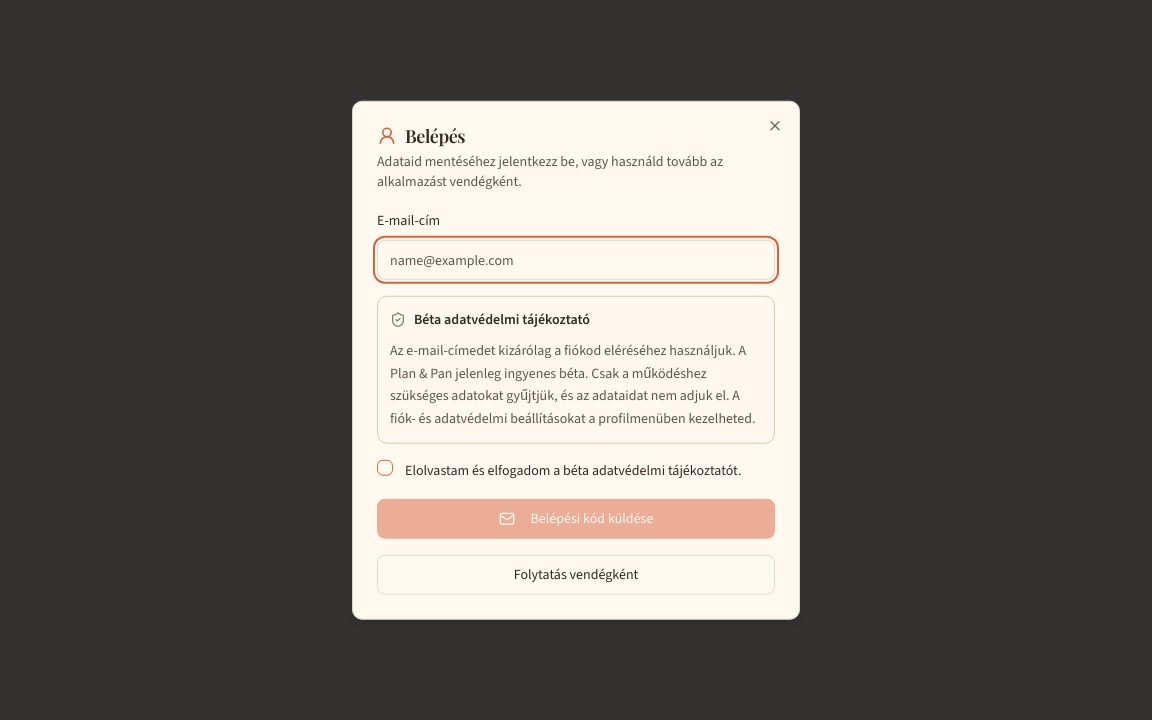
account dialog › shows a safe Hungarian rate-limit message
The image size is (1152, 720).
Type "tester@example.com" into the field labelled "E-mail-cím". click: (576, 260)
box: [377,240,775,280]
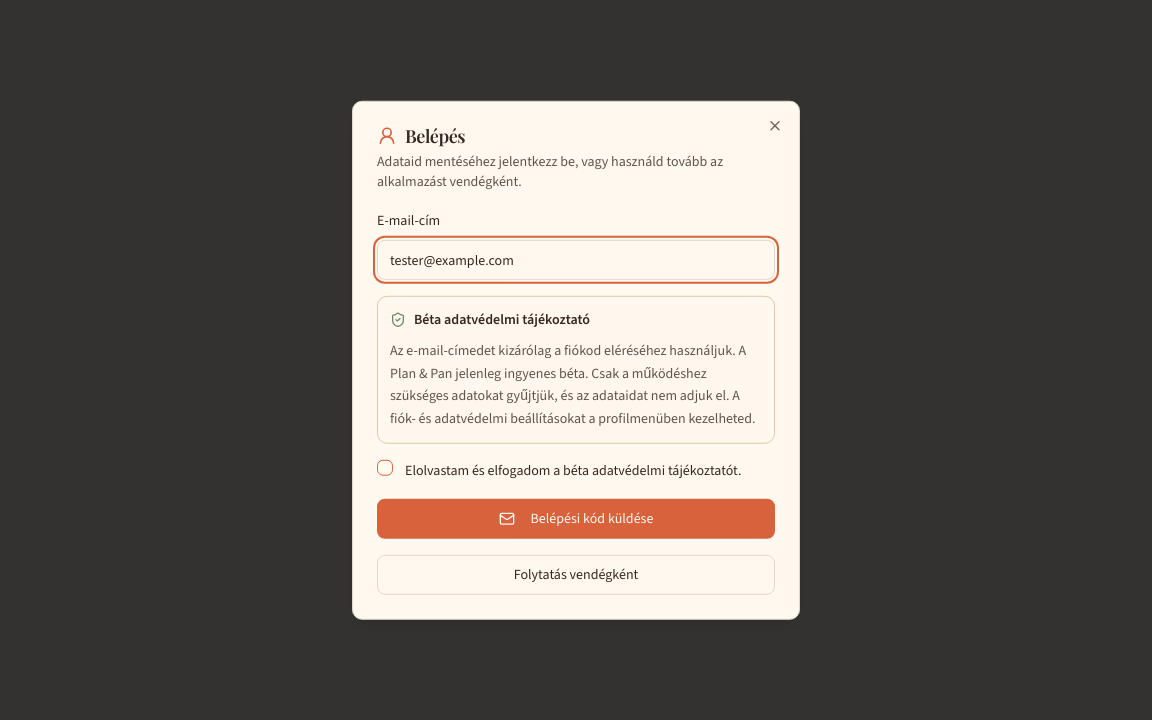
Click the checkbox named "Elolvastam és elfogadom a béta adatvédelmi tájékoztatót.". click: (385, 468)
box: [377,460,393,476]
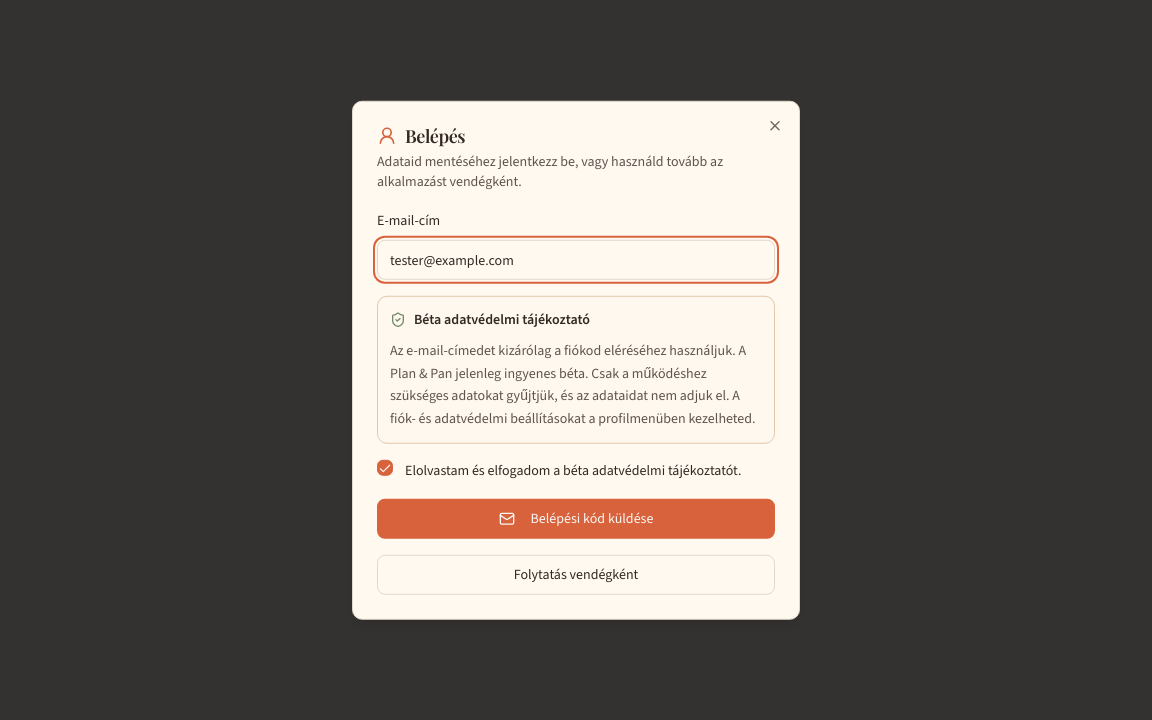
Click the button "Belépési kód küldése". click: (576, 518)
box: [377,498,775,538]
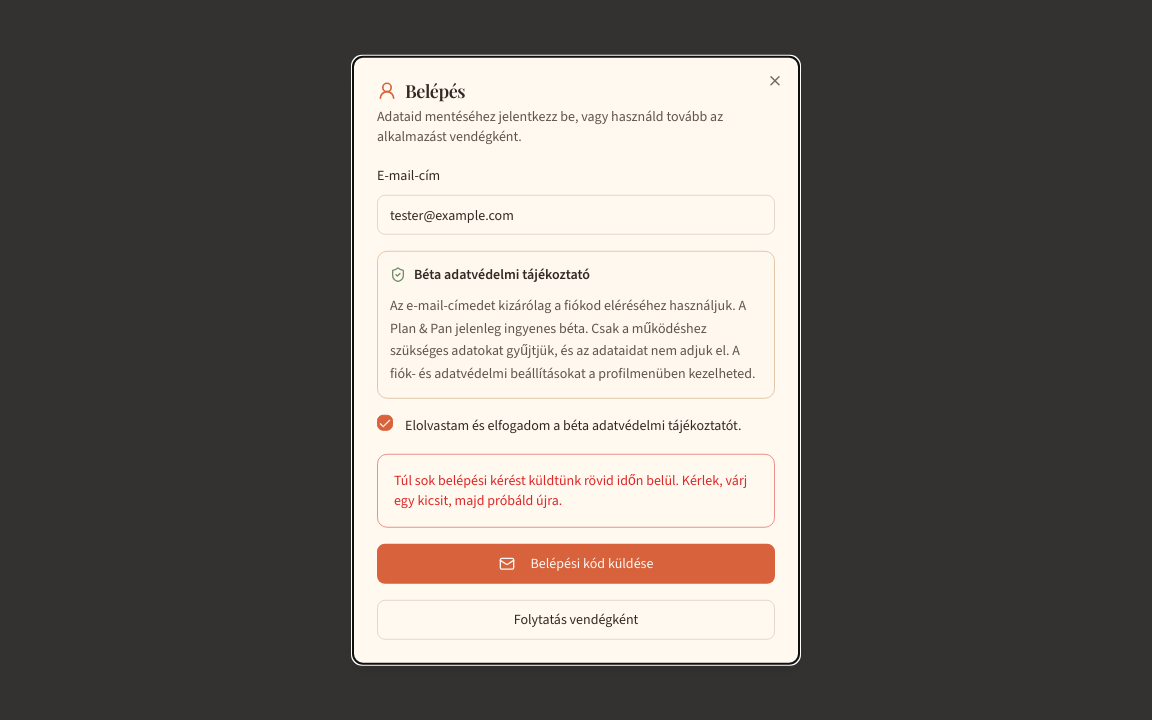
Now the text "Túl sok belépési kérést" is shown, box [394,470,747,509]
